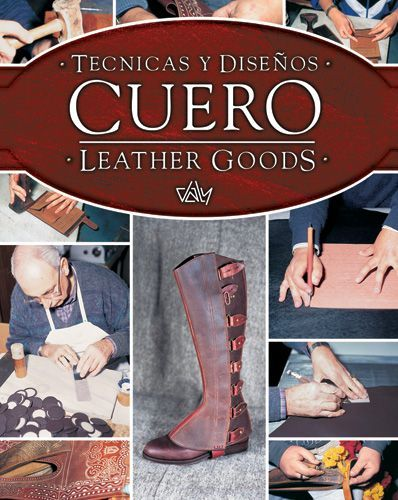cuero: (144, 252, 251, 465)
